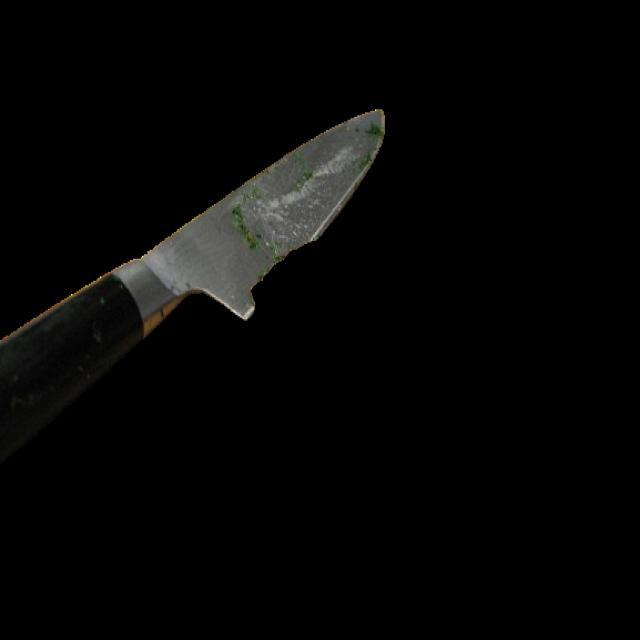knife: (0, 108, 388, 470)
